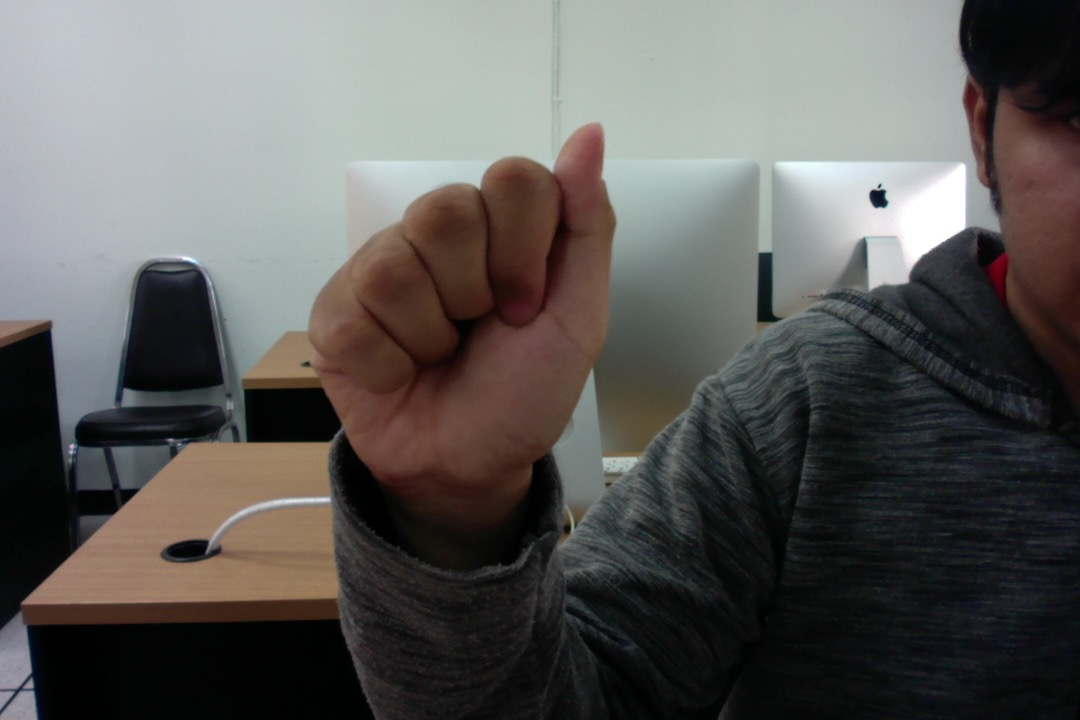or: (296, 102, 631, 528)
